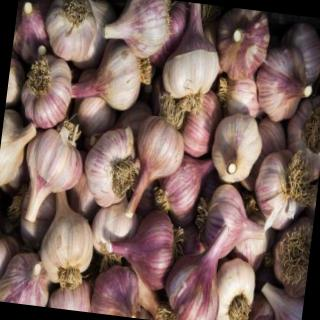Bawang Putih: (77, 123, 151, 218), (35, 208, 102, 294), (210, 112, 267, 190), (39, 1, 106, 67)
